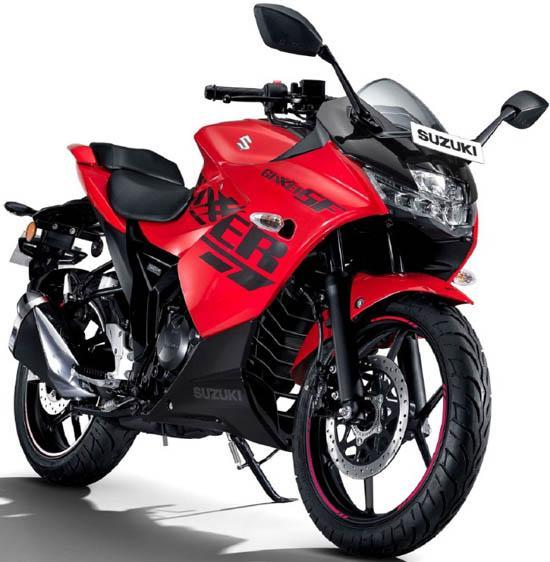motorbike: (4, 2, 550, 559)
